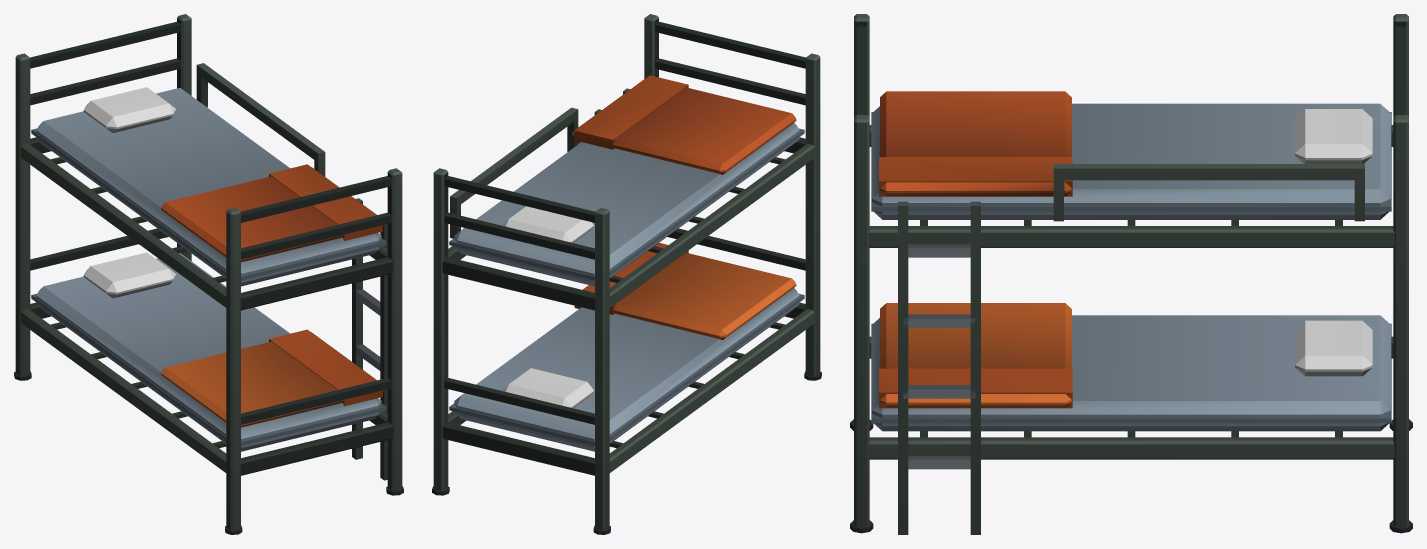
The model's file is bunk_bed.glb.
3 renders of one model, left to right at view 1: azimuth 30°, elevation 25°; view 2: azimuth 150°, elevation 25°; view 3: azimuth 270°, elevation 25°, orthographic. The views are drawn at different scales.
Visible parts, largest first — view 1: Body; view 2: Body; view 3: Body.
Part boxes in pixels (x1,y1,x2,y2): Body: [14, 14, 403, 534]; Body: [432, 14, 821, 534]; Body: [850, 14, 1412, 534].
Size of the model in its own units: 1.02 by 1.75 by 2.17.
